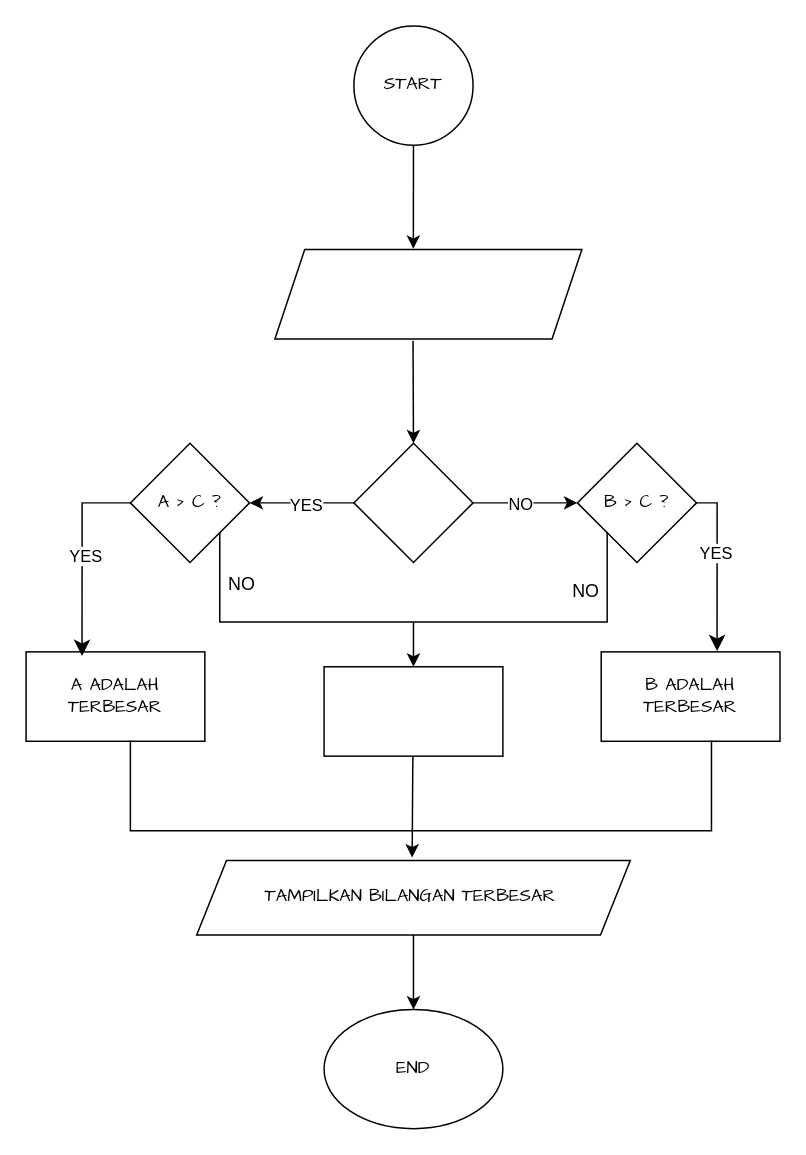
Some shapes in this 806 by 1155 pixel diagram are drawn without their labels. The centre of each missing label's shape, as x and y in pixels:
A > B ?: the point at 412,502
C ADALAH TERBESAR: the point at 413,710
INPUT BILANGAN A, B ,C: the point at 427,293
